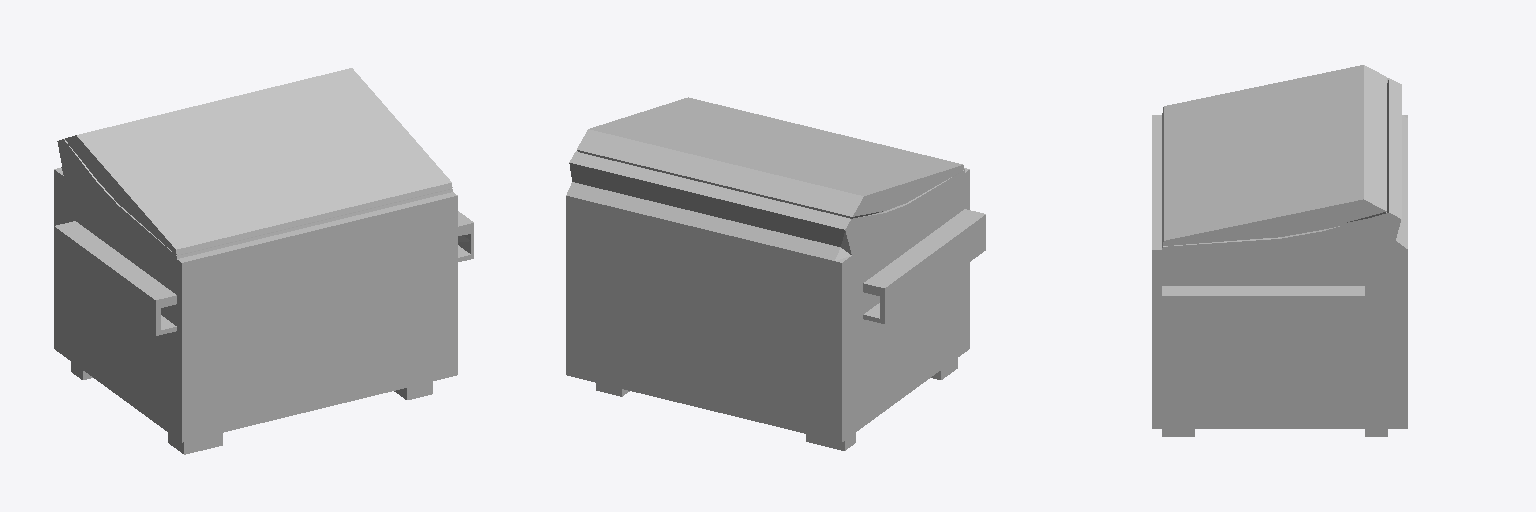
Rendered from garge_bin.obj.
3 renders of one model, left to right at view 1: azimuth 30°, elevation 25°; view 2: azimuth 150°, elevation 25°; view 3: azimuth 270°, elevation 25°, orthographic.
Bounding box in the file's own units: 243 × 181 × 169.